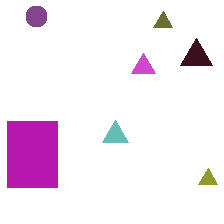circle: (26, 6, 46, 26)
rectangle: (7, 121, 57, 187)
triangle: (180, 38, 212, 65), (102, 120, 128, 142), (131, 53, 155, 73), (153, 11, 172, 27), (198, 168, 217, 184)
